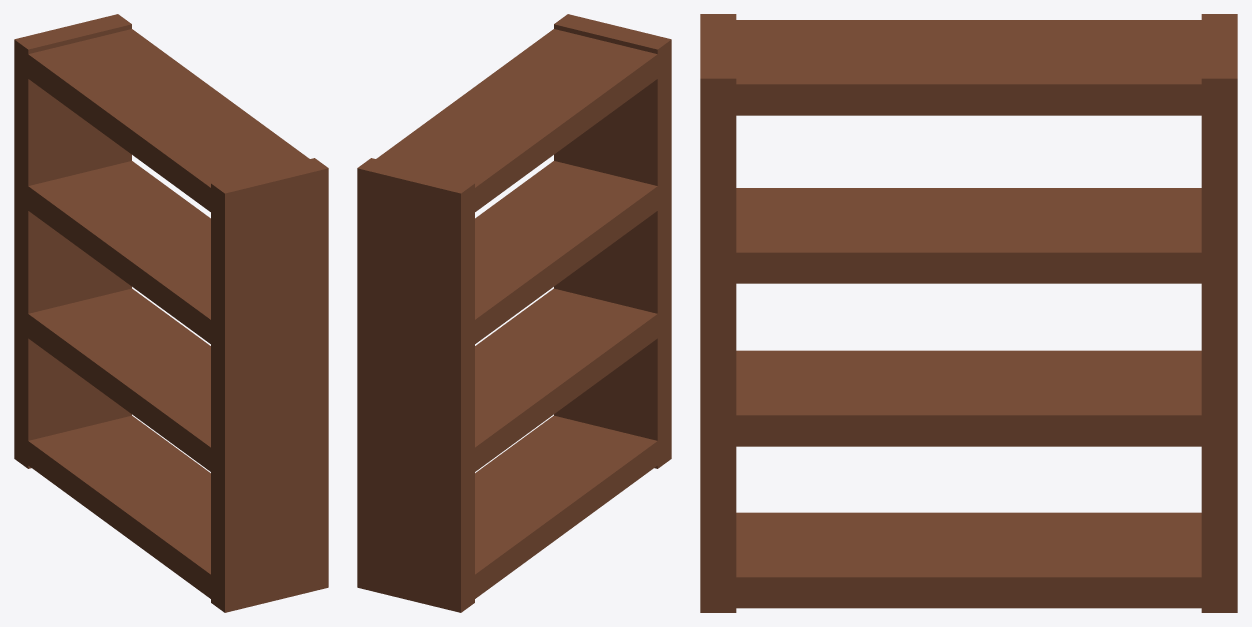
The model's file is Bookcase.fbx.
3 views of the same model, side by side, from view 1: azimuth 30°, elevation 25°; view 2: azimuth 150°, elevation 25°; view 3: azimuth 270°, elevation 25° (orthographic). The views are drawn at different scales.
Visible parts, largest first — view 1: Cube.8507; view 2: Cube.8507; view 3: Cube.8507.
Boxes of the visible parts, box(x1,y1,x2,y2) form: Cube.8507: box(14, 14, 328, 612); Cube.8507: box(357, 14, 671, 612); Cube.8507: box(700, 14, 1237, 612).
Bounding box in the file's own units: 50.75 × 196 × 178.
